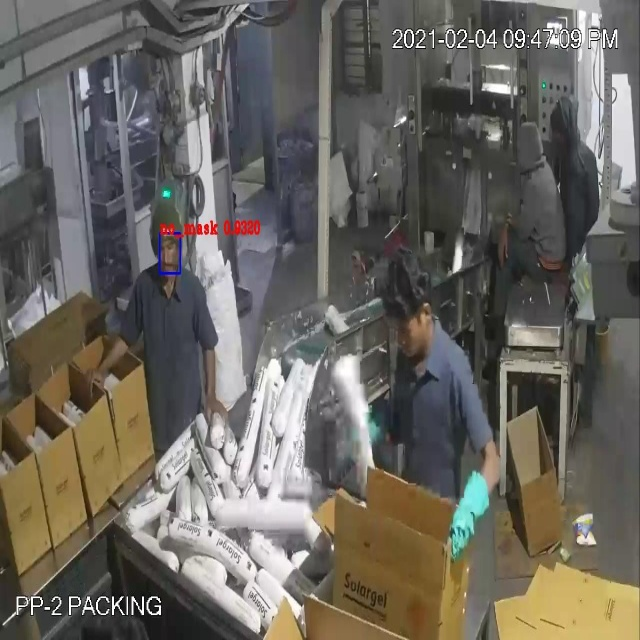Guantes: (441, 443, 505, 558)
Sin_guantes: (76, 330, 134, 402), (199, 332, 236, 431)
